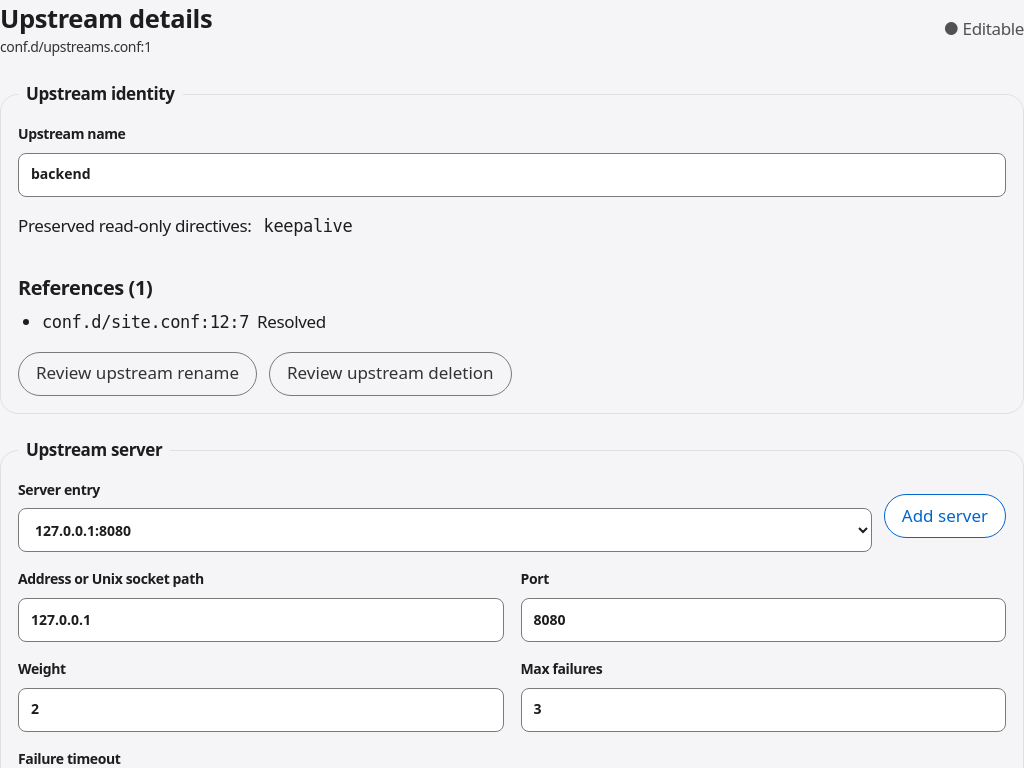
it: UpstreamEditor › does not discard a dirty server form when switching peers or operations
Replace the text in the number field named "server-weight" with "4": (261, 710) 18,688 -> 504,732
(page scrolled)
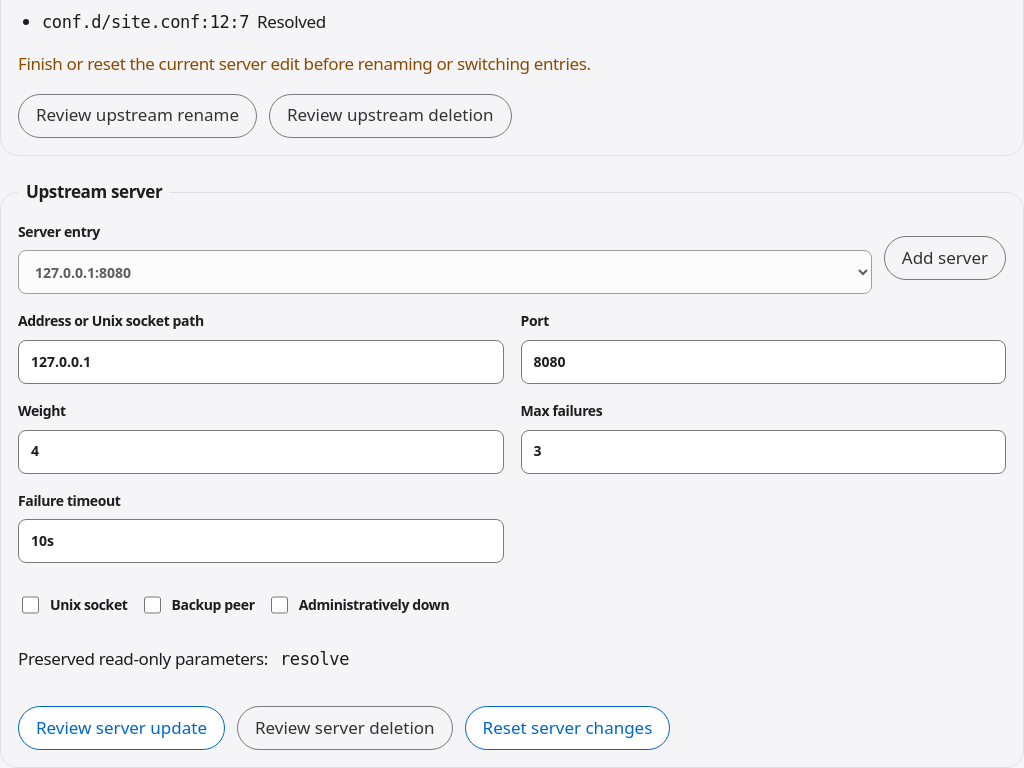
Now the dropdown named "upstream-server" is disabled, box 18,250 -> 872,294
Now the button "Add server" is disabled, box 884,236 -> 1006,280
Now the button "Review server deletion" is disabled, box 237,706 -> 453,750
Click the button "Reset server changes": click(568, 728) 465,706 -> 670,750
(page scrolled)
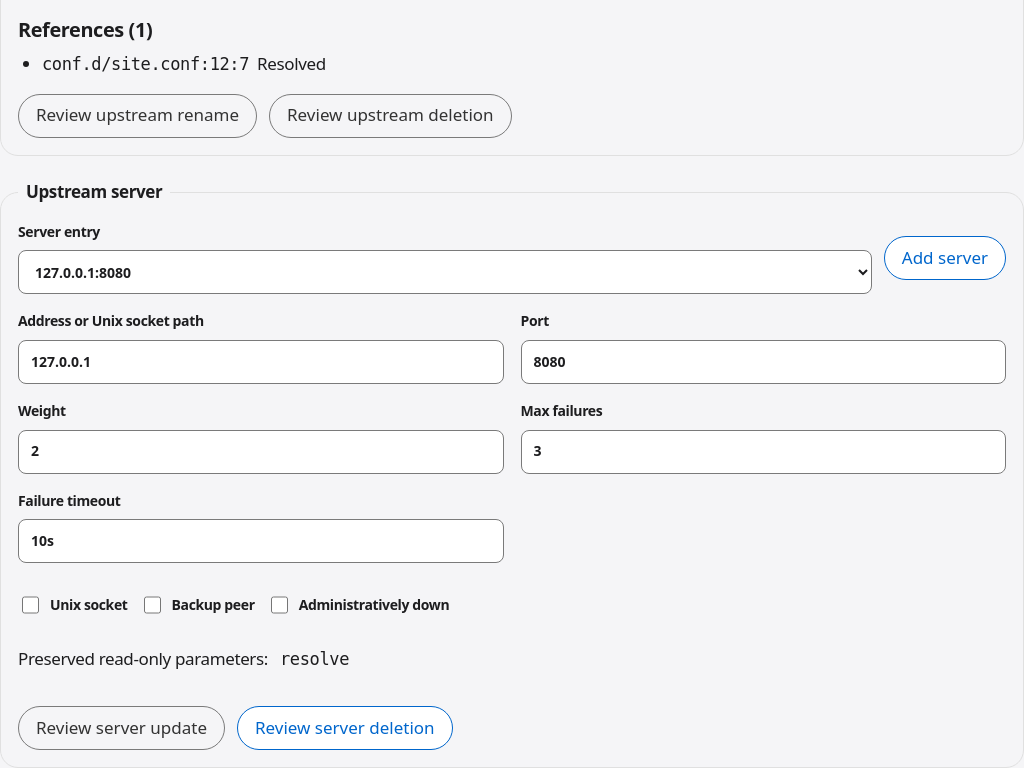
Now the number field named "server-weight" holds "2", box 18,430 -> 504,474
Now the dropdown named "upstream-server" is enabled, box 18,250 -> 872,294
